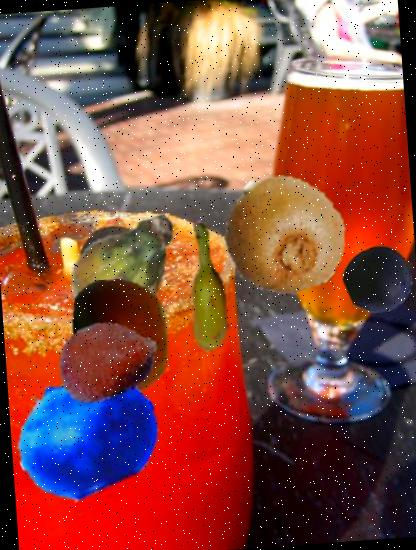Banana: (138, 216, 280, 356)
Cactus: (54, 196, 192, 332)
Grape: (342, 243, 415, 316)
Huckleberry: (7, 355, 162, 510)
Kiwi: (216, 170, 350, 302)
Nut: (58, 274, 183, 399)
Salak: (51, 304, 163, 416)
Walnut: (78, 222, 151, 295)
